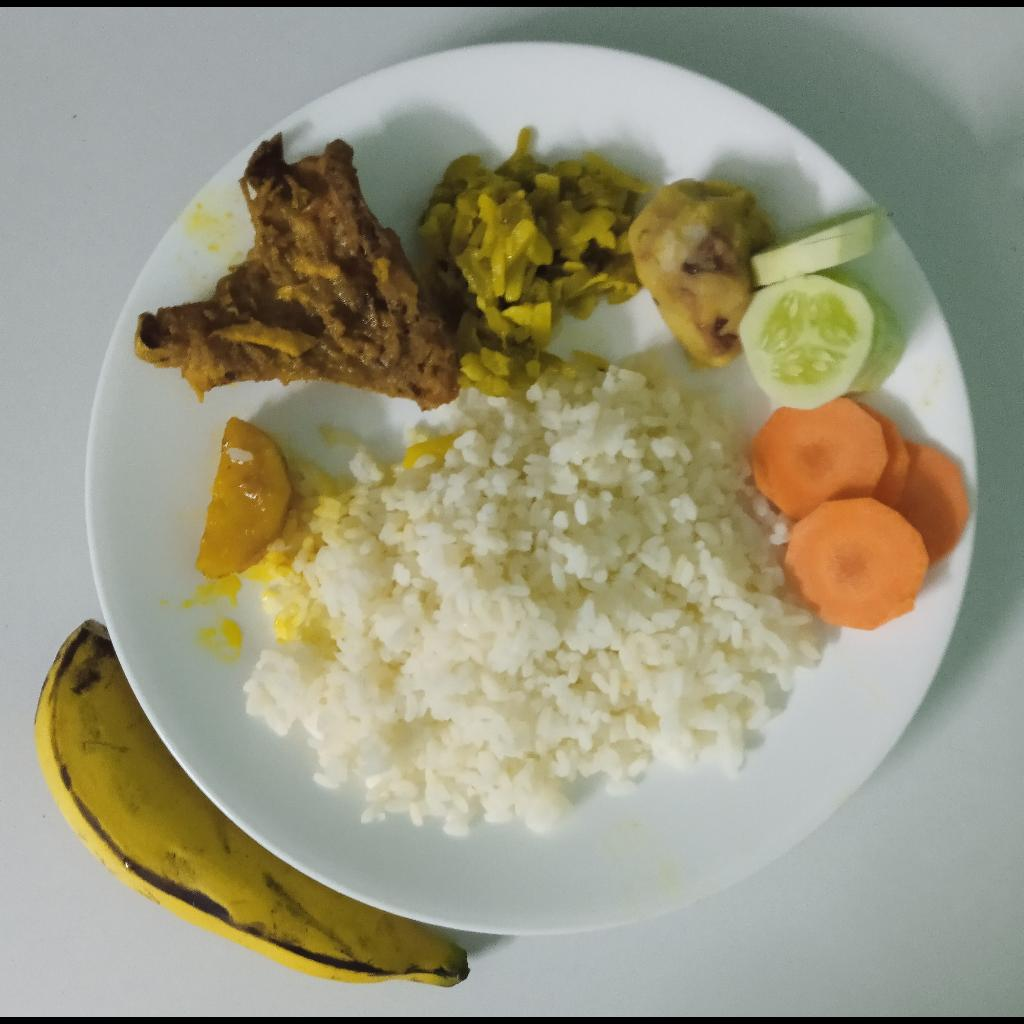banana: (28, 619, 472, 988)
carrot: (752, 399, 970, 631)
chicken: (135, 132, 462, 412)
cucumber: (739, 208, 908, 412)
potato: (198, 417, 293, 578)
potato-mashed: (628, 178, 779, 373)
rice: (240, 351, 827, 835)
vegetable: (422, 128, 648, 396)
